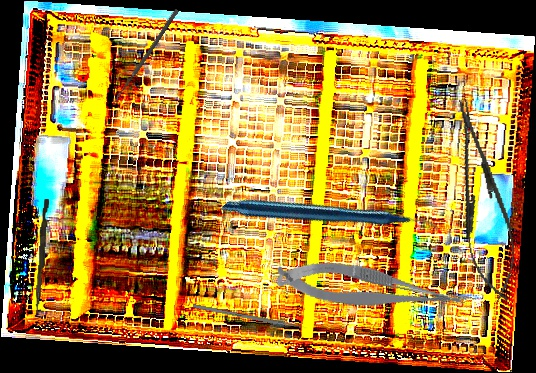Handpiece: (219, 110, 441, 327)
Micro Scissor: (271, 246, 471, 334)
Needle Holder: (440, 92, 526, 307)
Pusher: (192, 303, 308, 331), (35, 198, 49, 314)
Surgical Spoon: (111, 8, 180, 105)
